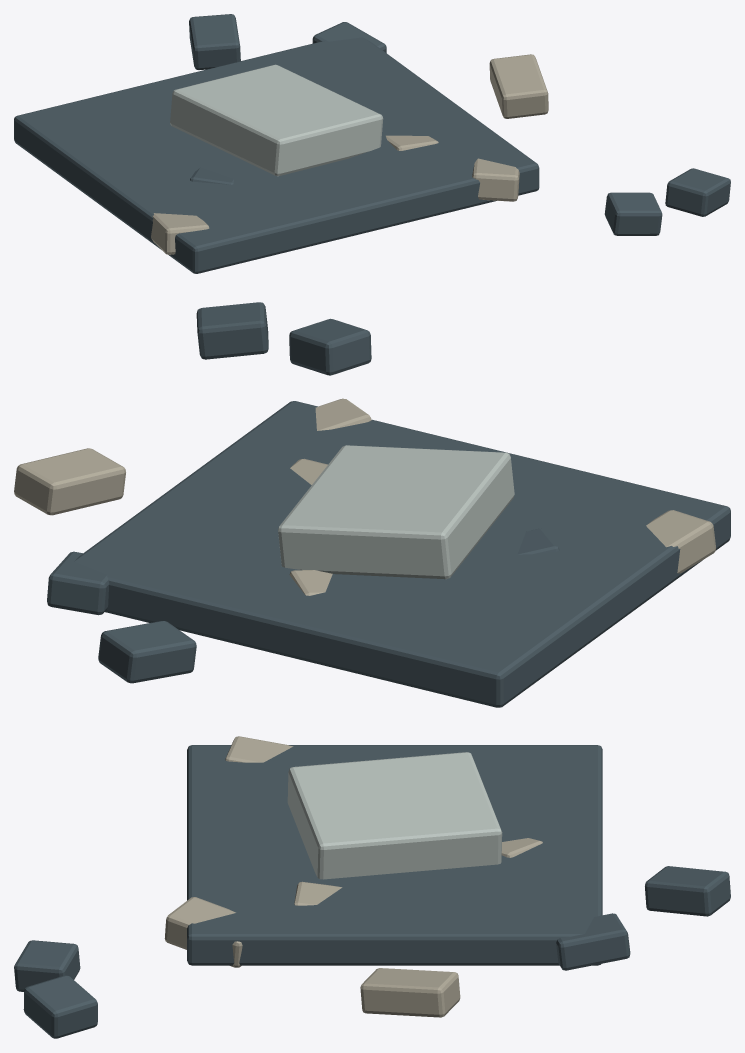
File: assembly_pallet_d3.glb
The picture shows the model from 3 angles, top to bottom: view 1: azimuth 30°, elevation 25°; view 2: azimuth 150°, elevation 25°; view 3: azimuth 270°, elevation 25°; orthographic projection. The views are drawn at different scales.
Visible parts, largest first — view 1: Fixture pallet.019, Workpiece fragment.004, Debris fragment.111, Debris fragment.110, Debris fragment.116, Debris fragment.112, Debris fragment.113, Debris fragment.119, Debris fragment.118, Debris fragment.117, Debris fragment.114; view 2: Fixture pallet.019, Workpiece fragment.004, Debris fragment.111, Debris fragment.110, Debris fragment.112, Debris fragment.116, Debris fragment.118, Debris fragment.119, Debris fragment.113, Debris fragment.115, Debris fragment.114; view 3: Fixture pallet.019, Workpiece fragment.004, Debris fragment.111, Debris fragment.110, Debris fragment.116, Debris fragment.118, Debris fragment.112, Debris fragment.113, Debris fragment.119, Debris fragment.117, Debris fragment.115.
Boxes of the visible parts, x1,y1,x2,y2 form: Fixture pallet.019: (14,37,539,273); Workpiece fragment.004: (170,64,383,176); Debris fragment.111: (489,54,548,118); Debris fragment.110: (189,14,240,69); Debris fragment.116: (665,168,730,216); Debris fragment.112: (604,192,662,235); Debris fragment.113: (472,158,519,201); Debris fragment.119: (151,213,209,254); Debris fragment.118: (312,22,386,52); Debris fragment.117: (386,135,438,150); Debris fragment.114: (190,167,233,184); Fixture pallet.019: (74,401,730,707); Workpiece fragment.004: (278,445,514,579); Debris fragment.111: (14,448,125,515); Debris fragment.110: (98,621,196,683); Debris fragment.112: (289,318,371,375); Debris fragment.116: (196,302,268,359); Debris fragment.118: (47,551,109,615); Debris fragment.119: (646,510,715,573); Debris fragment.113: (315,398,371,430); Debris fragment.115: (289,570,332,595); Debris fragment.114: (517,528,559,554); Fixture pallet.019: (187,745,602,965); Workpiece fragment.004: (287,752,502,879); Debris fragment.111: (360,968,460,1017); Debris fragment.110: (645,866,730,916); Debris fragment.116: (23,975,97,1038); Debris fragment.118: (556,913,630,970); Debris fragment.112: (14,940,80,991); Debris fragment.113: (164,897,242,967); Debris fragment.119: (225,736,293,762); Debris fragment.117: (294,881,342,905); Debris fragment.115: (501,838,542,857).
Size of the model in its own units: 2.38 by 0.3436 by 2.67.
